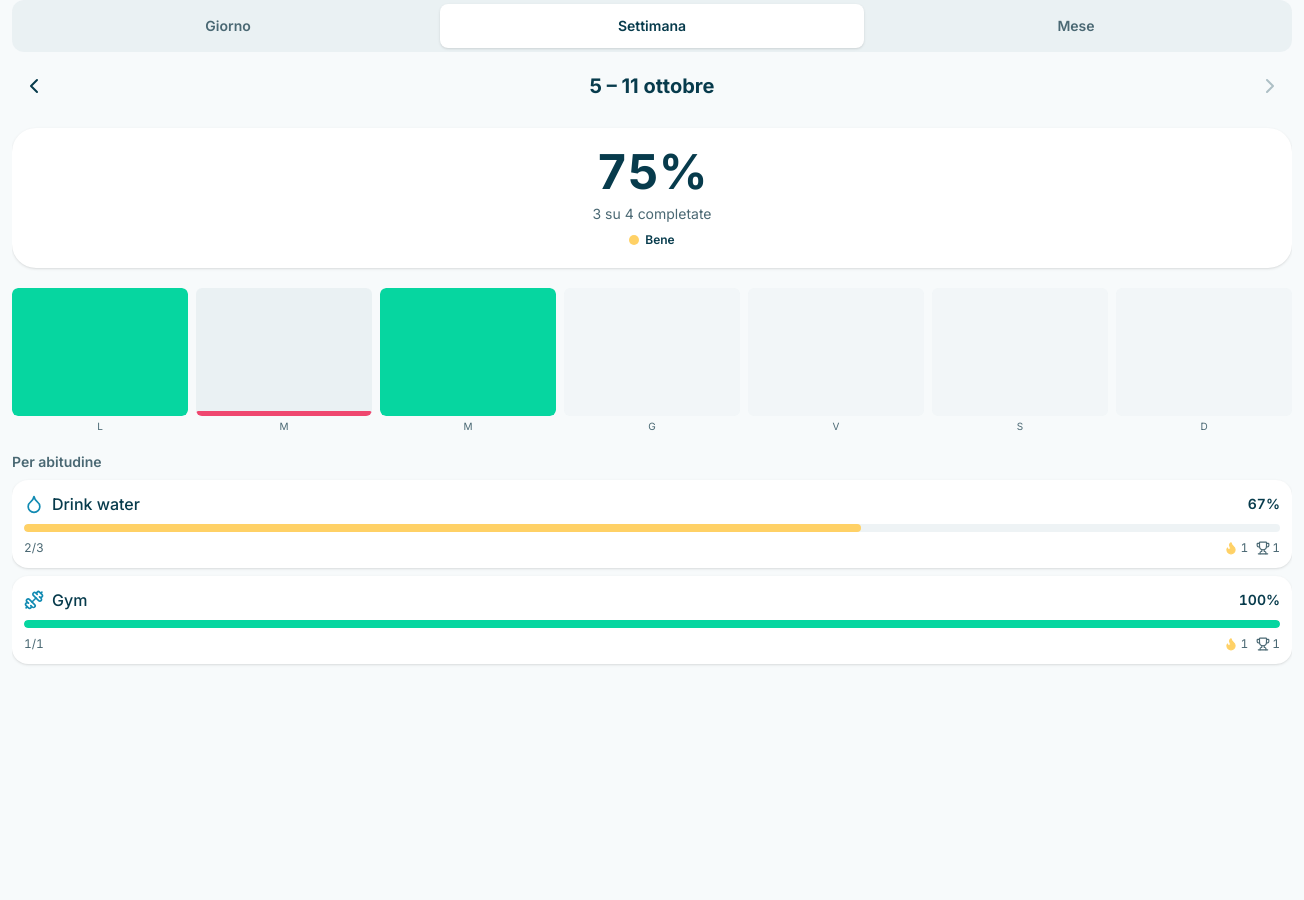
Scenario: StatsPage › periodo precedente
Click the button named "Periodo precedente" at {"x": 34, "y": 86}, box [12,64,56,108]
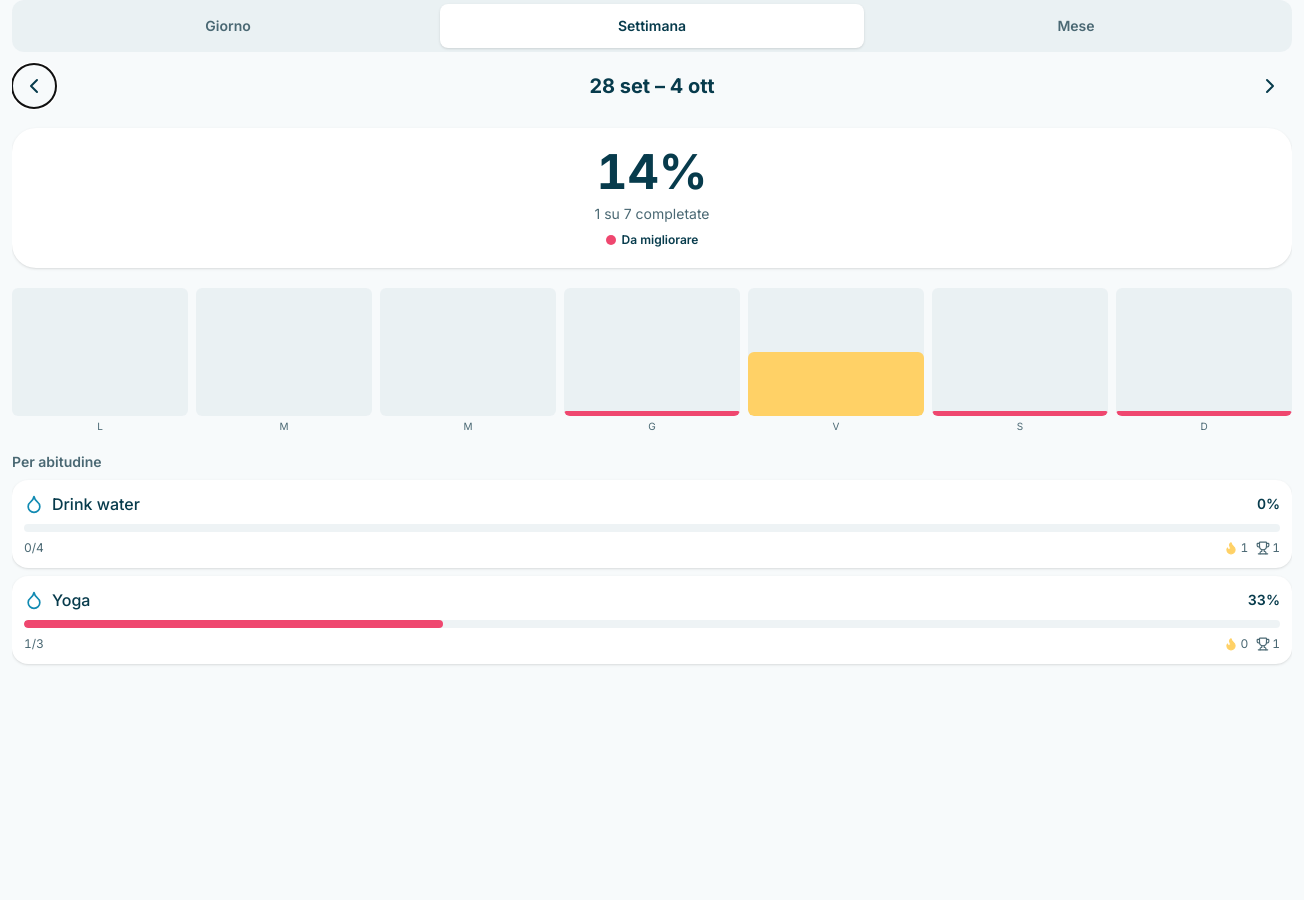
Now the heading "28 set – 4 ott" is shown, box [589,72,715,100]
Now the text "1 su 7 completate" is shown, box [594,204,710,224]
Now the button named "Periodo successivo" is enabled, box [1248,64,1292,108]
